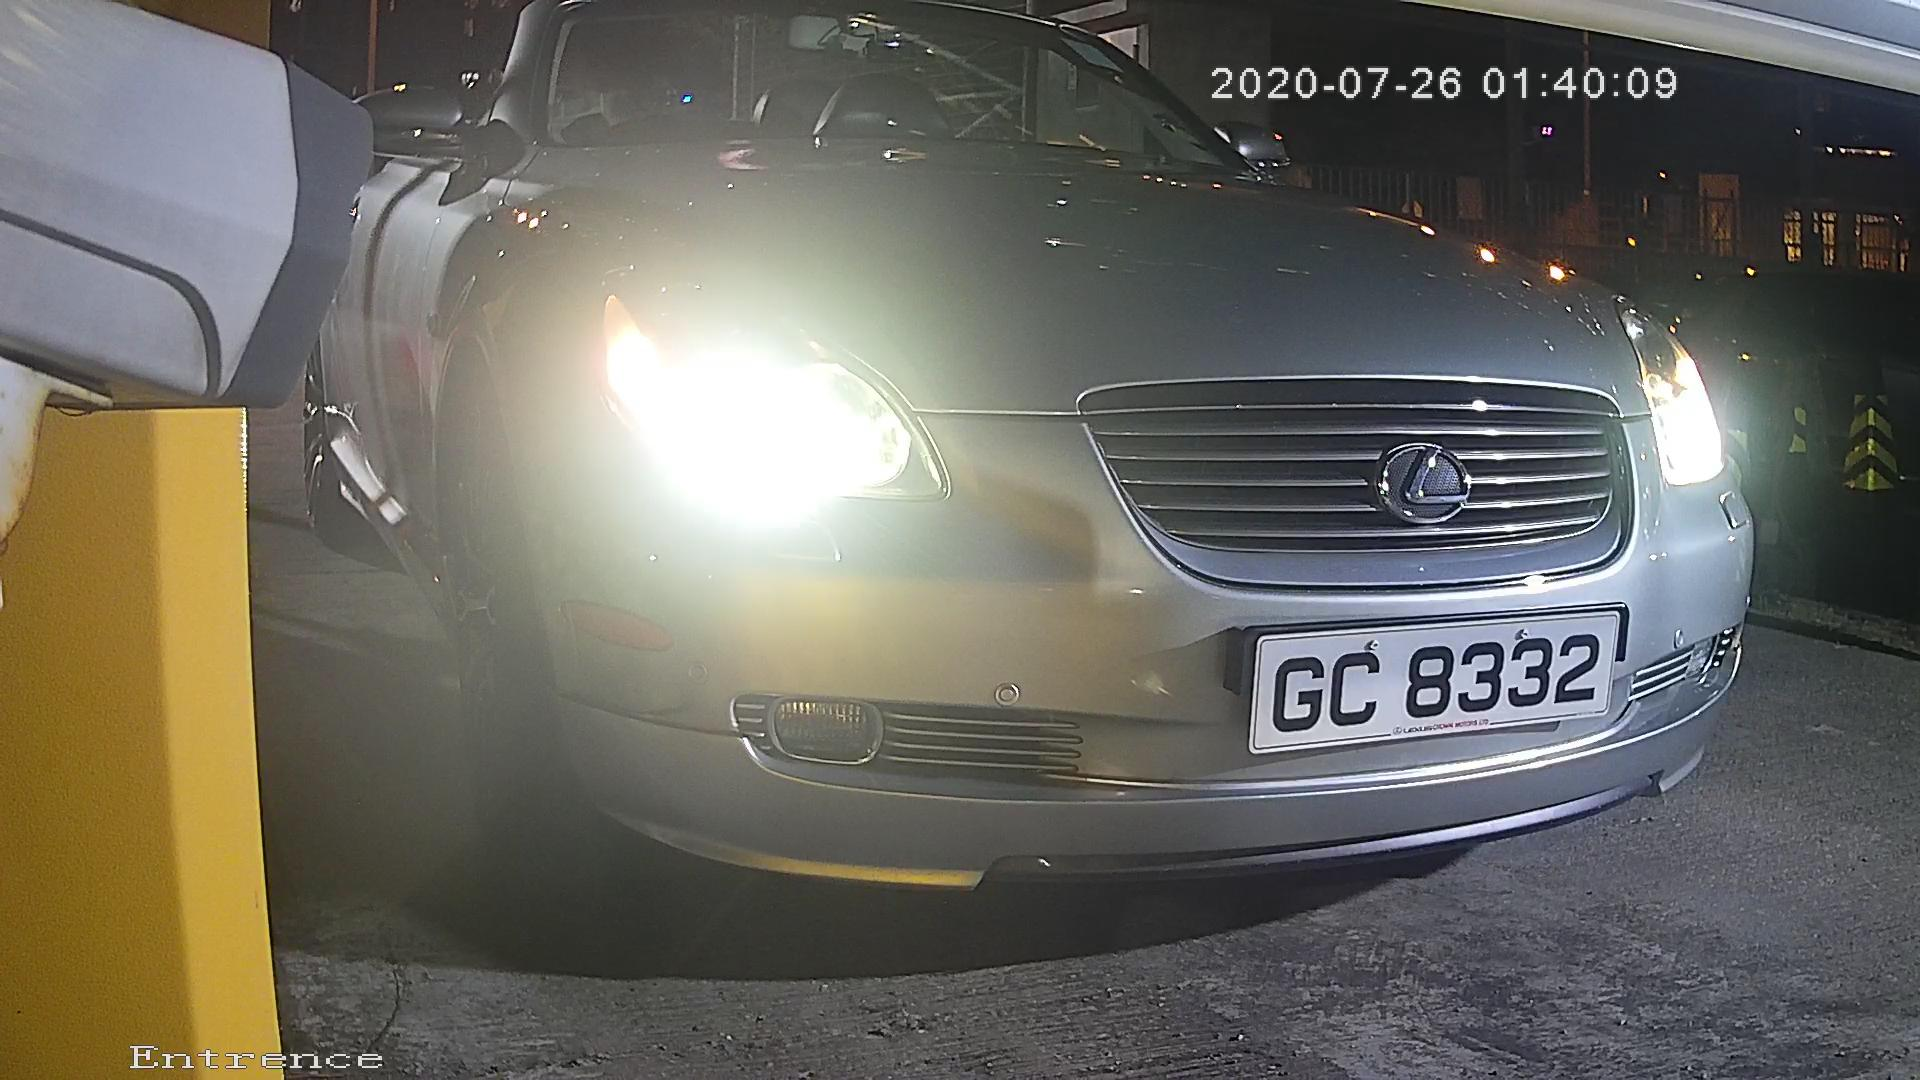Car: (129, 1, 1886, 979)
License Plate: (1226, 589, 1638, 772)
